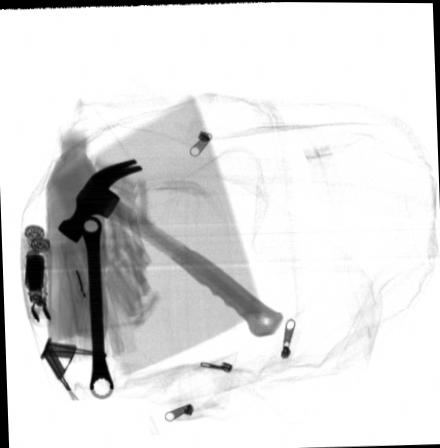Hammer: (55, 159, 283, 336)
Wrench: (78, 214, 112, 397)
